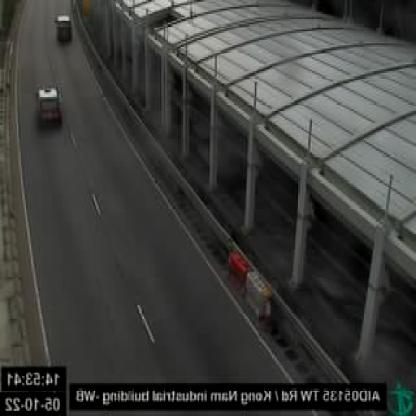Car: (37, 85, 61, 128), (57, 11, 74, 44)
